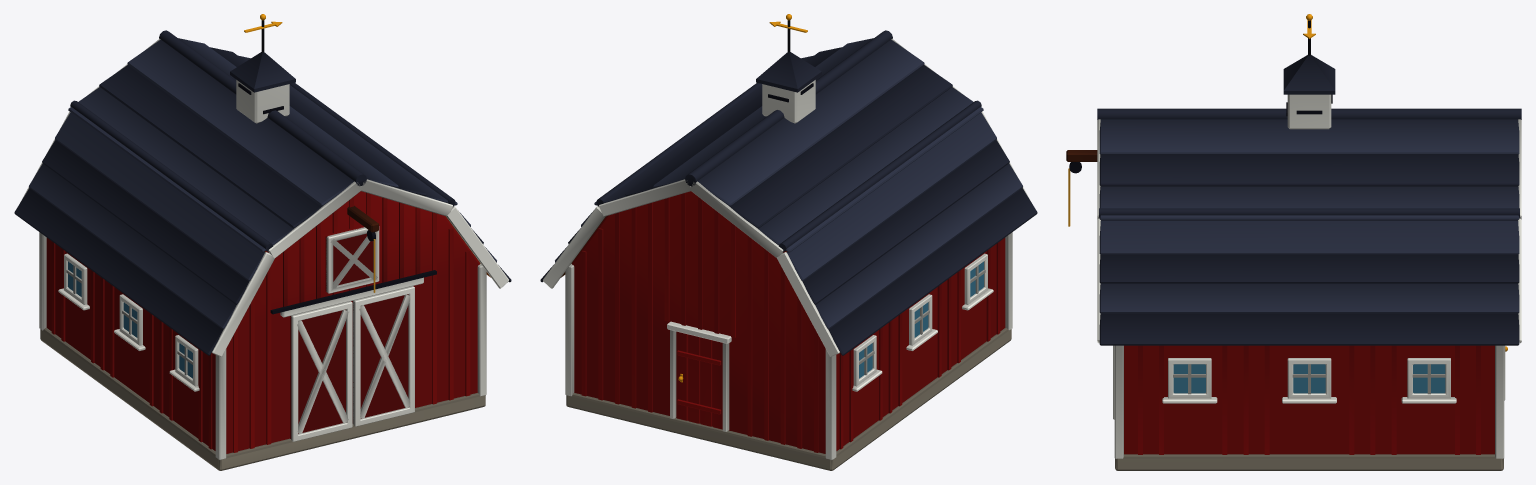
Rendered from Barn.fbx.
The picture shows the model from 3 angles, left to right: view 1: azimuth 30°, elevation 25°; view 2: azimuth 150°, elevation 25°; view 3: azimuth 270°, elevation 25°; orthographic projection. The views are drawn at different scales.
Visible parts, largest first — view 1: Barn; view 2: Barn; view 3: Barn.
Part boxes in pixels (<box>): Barn: <box>14,14,511,470</box>; Barn: <box>540,14,1037,470</box>; Barn: <box>1066,14,1521,470</box>.
Size of the model in its own units: 5.36 by 6.07 by 6.46.
